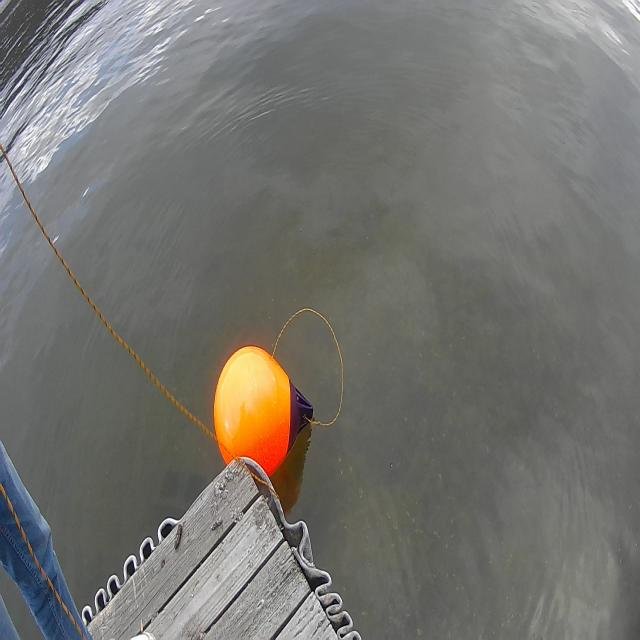Buoy: (212, 342, 315, 486)
